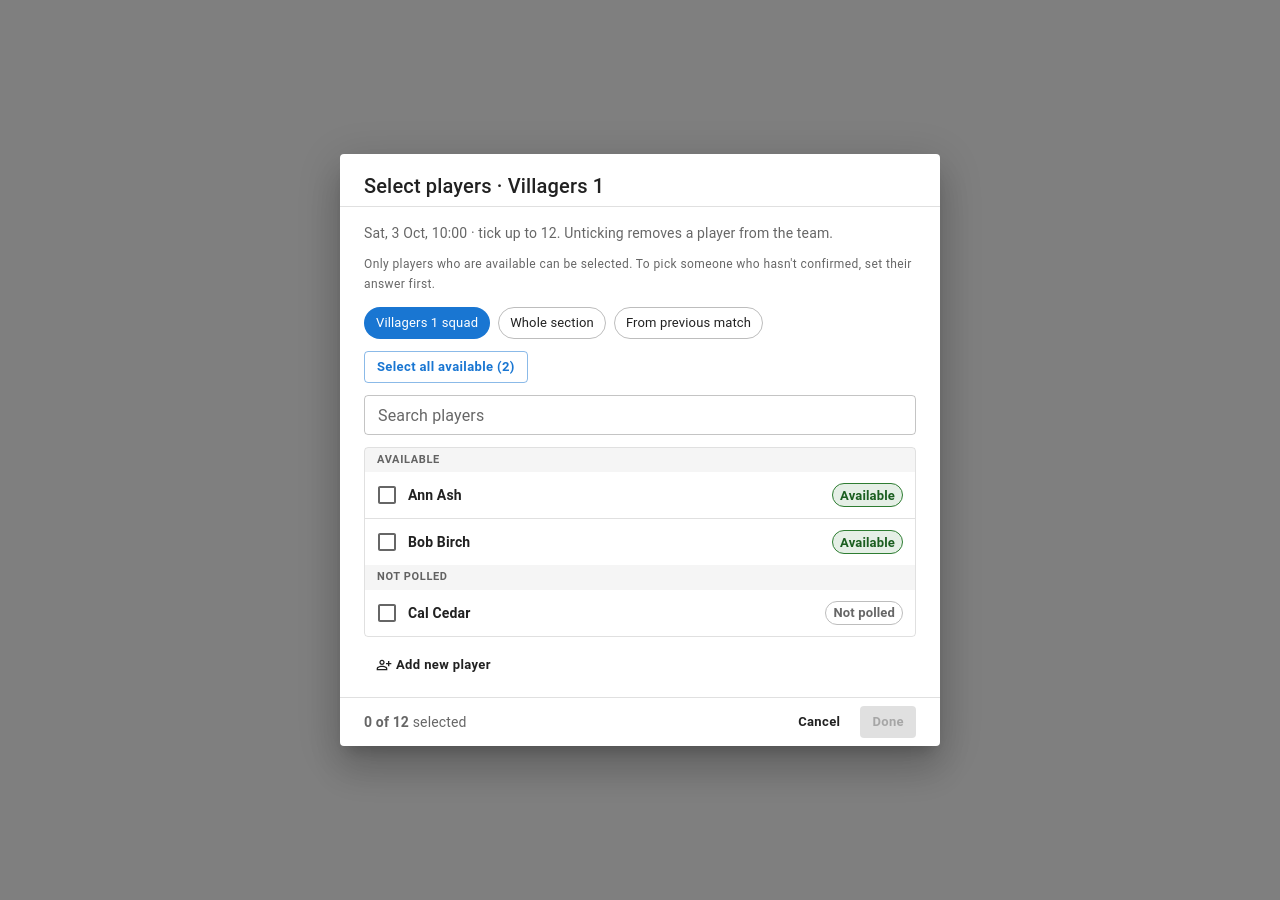
Scenario: SelectPlayersDialog › Select all available › is always visible with its count, and ticks only Available players
Click the button with aria-label "Select all available players not yet selected (2)": (446, 367) [364,351,528,383]
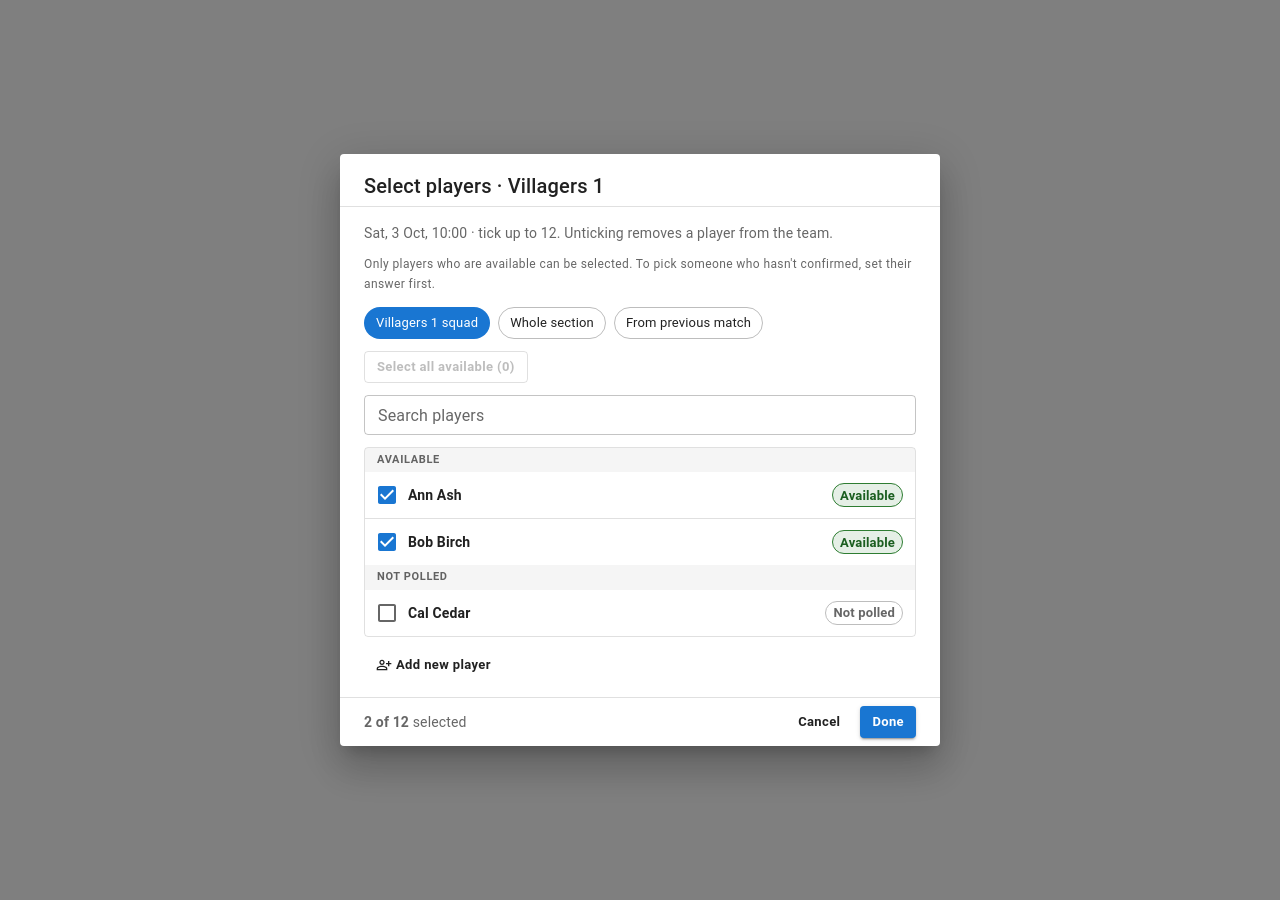
Now the checkbox labelled "Ann Ash" is checked, box [375,483,462,507]
Now the checkbox labelled "Bob Birch" is checked, box [375,530,470,554]
Now the button with aria-label "Select all available players not yet selected (0)" is disabled, box [364,351,528,383]
